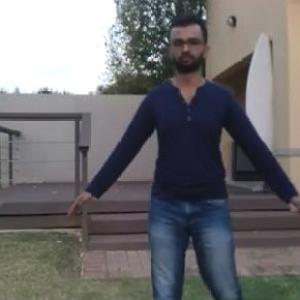land: (83, 33, 299, 300)
